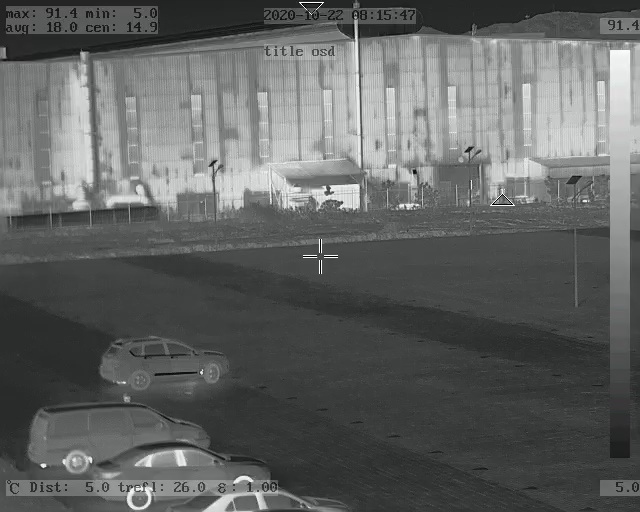vehicle: (86, 434, 271, 505), (29, 405, 215, 475), (87, 335, 232, 383), (177, 482, 347, 511)
